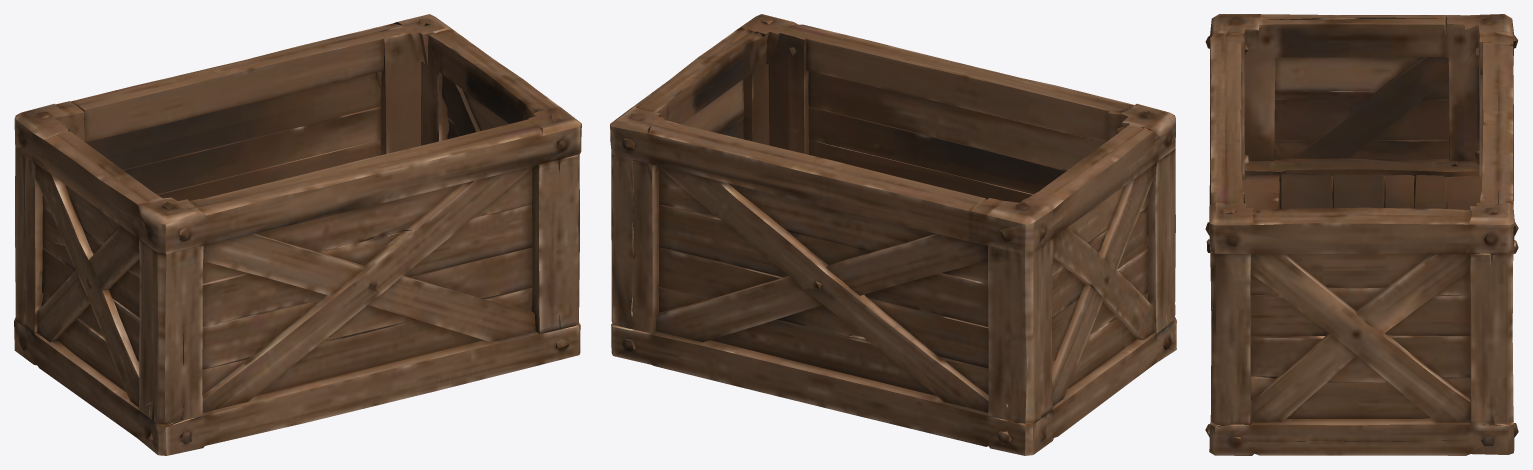
File: CrateNoLid.glb
3 views of the same model, side by side, from view 1: azimuth 30°, elevation 25°; view 2: azimuth 150°, elevation 25°; view 3: azimuth 270°, elevation 25° (orthographic).
Visible parts, largest first — view 1: CrateNoLid; view 2: CrateNoLid; view 3: CrateNoLid.
Boxes of the visible parts, bbox=[...] form: CrateNoLid: bbox=[14, 14, 581, 455]; CrateNoLid: bbox=[610, 14, 1176, 455]; CrateNoLid: bbox=[1205, 14, 1518, 455].
Bounding box in the file's own units: 1.38 × 0.7437 × 0.873.
1 material, 1 textured.
